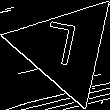L_S: (44, 20, 87, 76)
